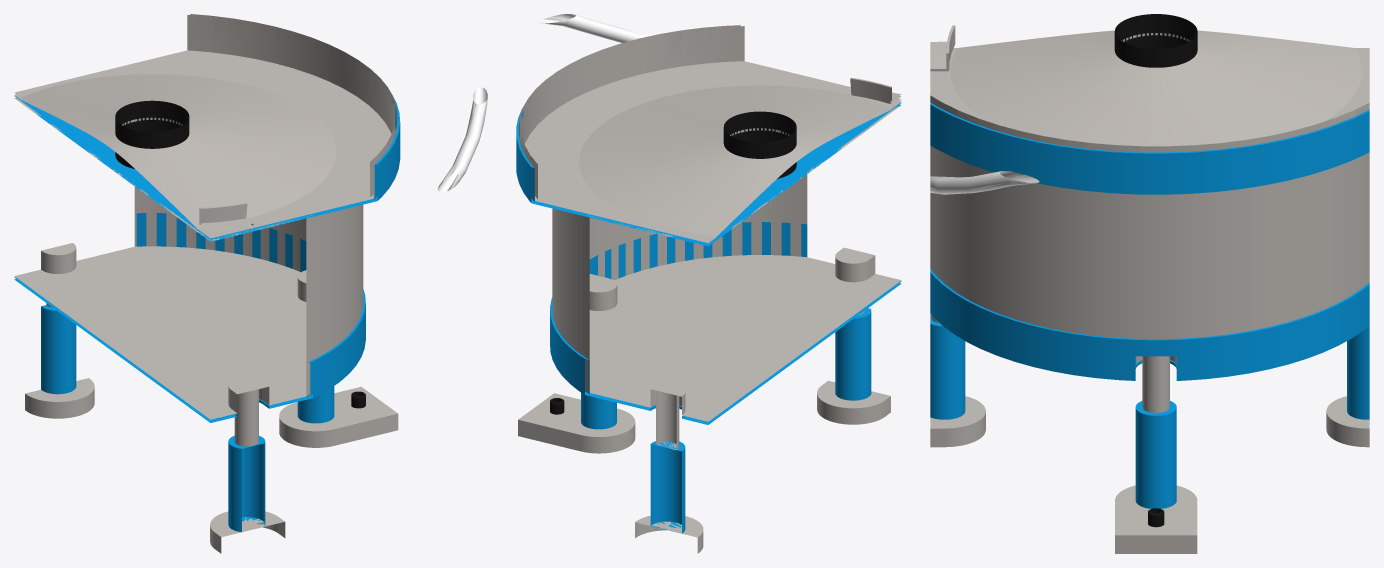
Rendered from Cube05_PinInsertionStation.glb.
The picture shows the model from 3 angles, left to right: view 1: azimuth 30°, elevation 25°; view 2: azimuth 150°, elevation 25°; view 3: azimuth 270°, elevation 25°; orthographic projection. The views are drawn at different scales.
Parts seen in each view (by area): view 1: color-25; view 2: color-25; view 3: color-25.
Boxes of the visible parts, x1,y1,x2,y2 form: color-25: (14,14,487,553); color-25: (516,14,901,553); color-25: (930,14,1369,553).
Bounding box in the file's own units: 0.3018 × 0.32 × 0.32.
